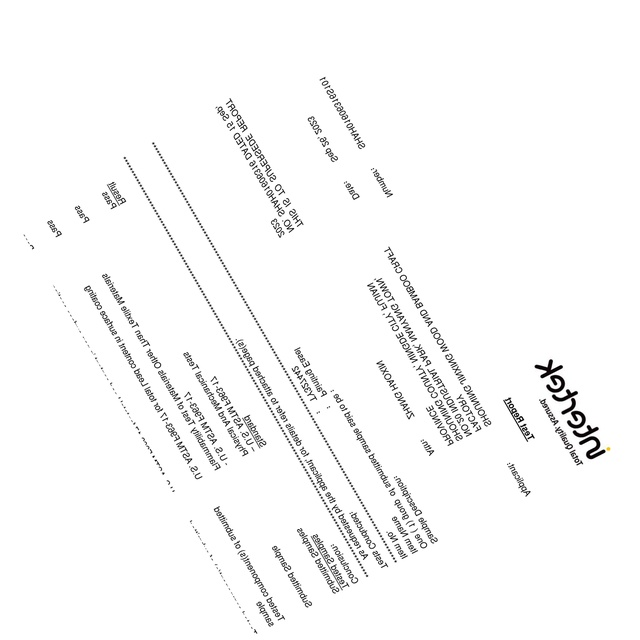intertek: (533, 357, 612, 463)
